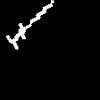double_crochet: (6, 0, 53, 48)
